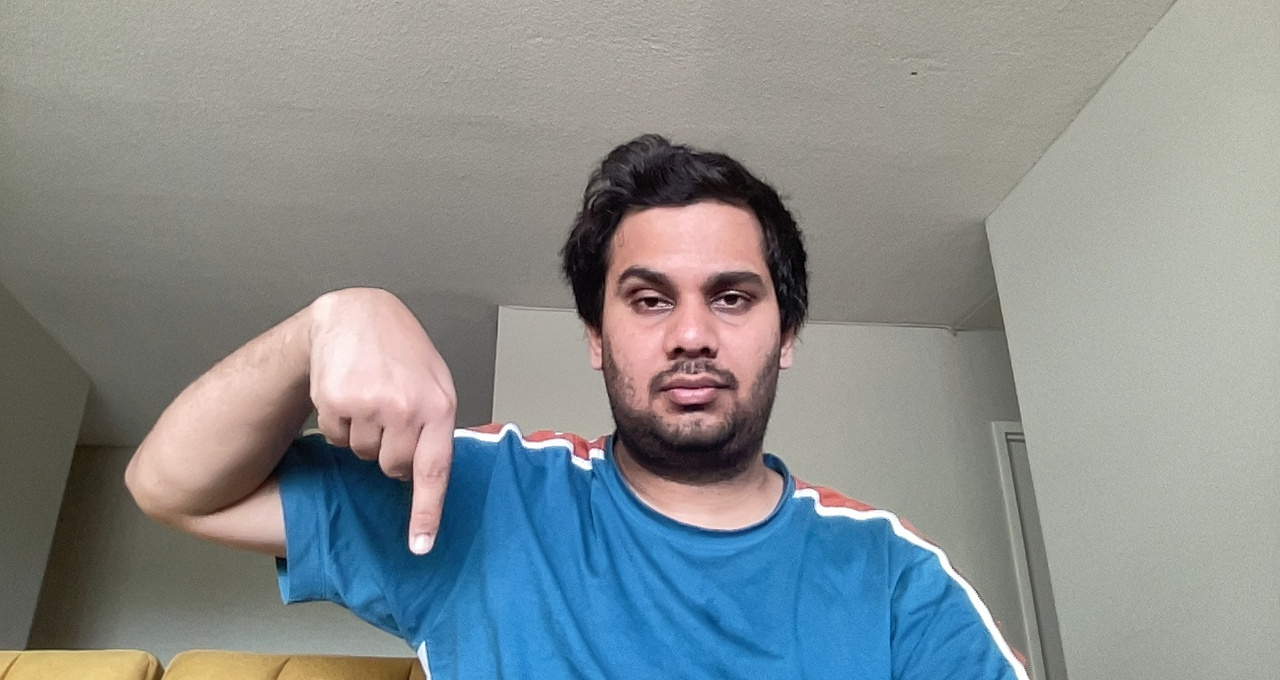fingerdown: (301, 283, 475, 560)
